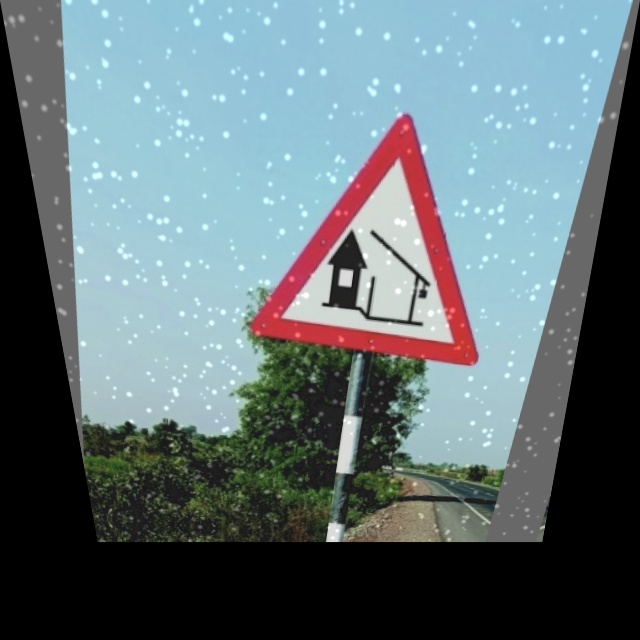Barrier_Ahead: (237, 97, 536, 369)
